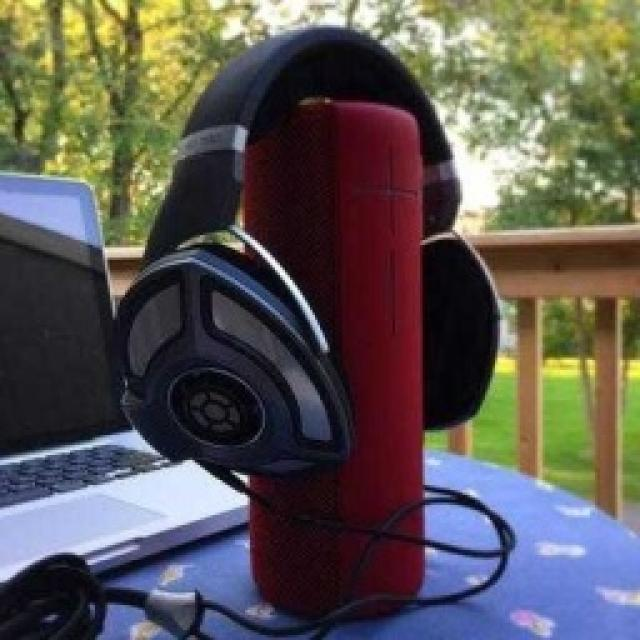headphones: (112, 22, 500, 478)
